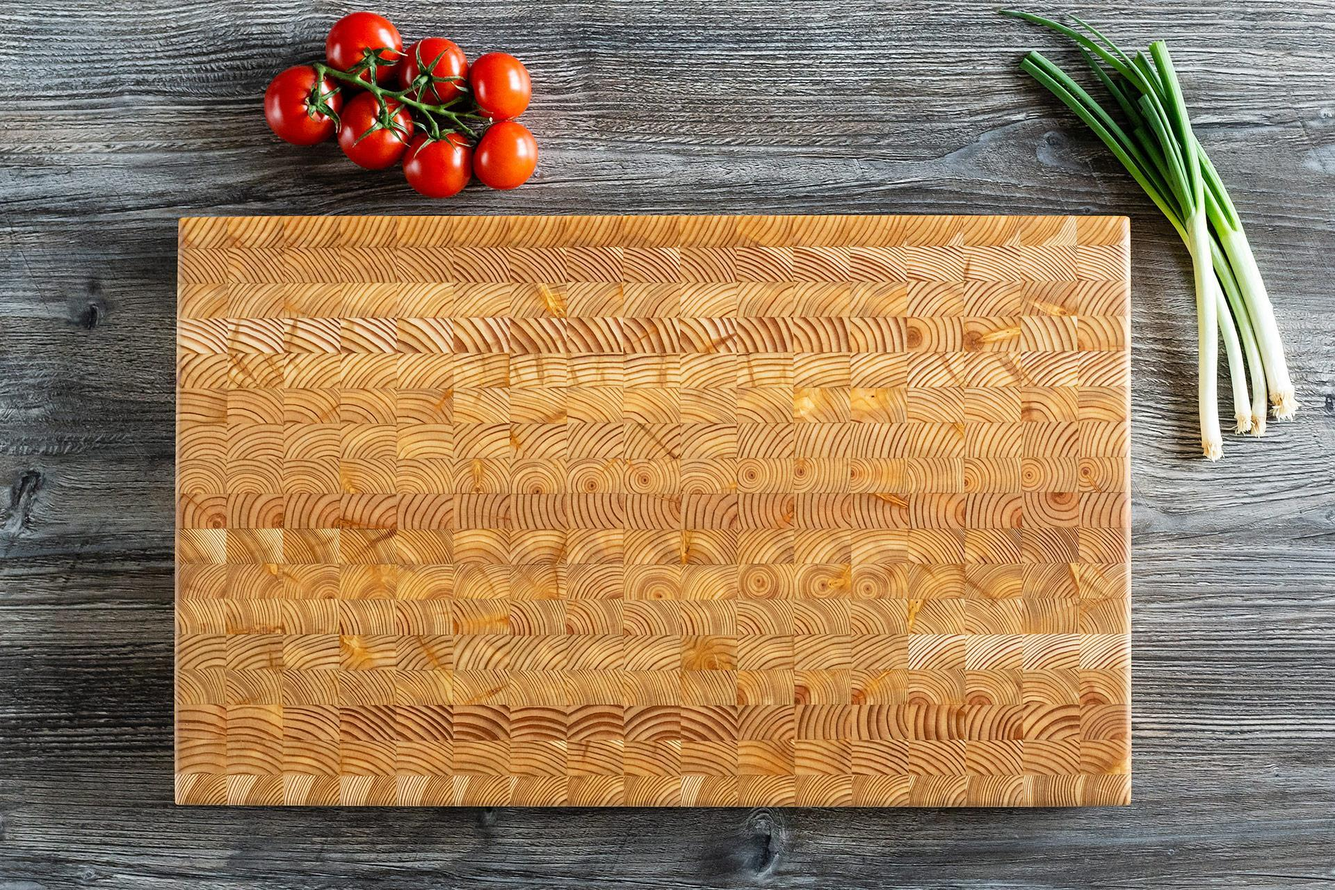gloved_hand: (140, 193, 1160, 834)
